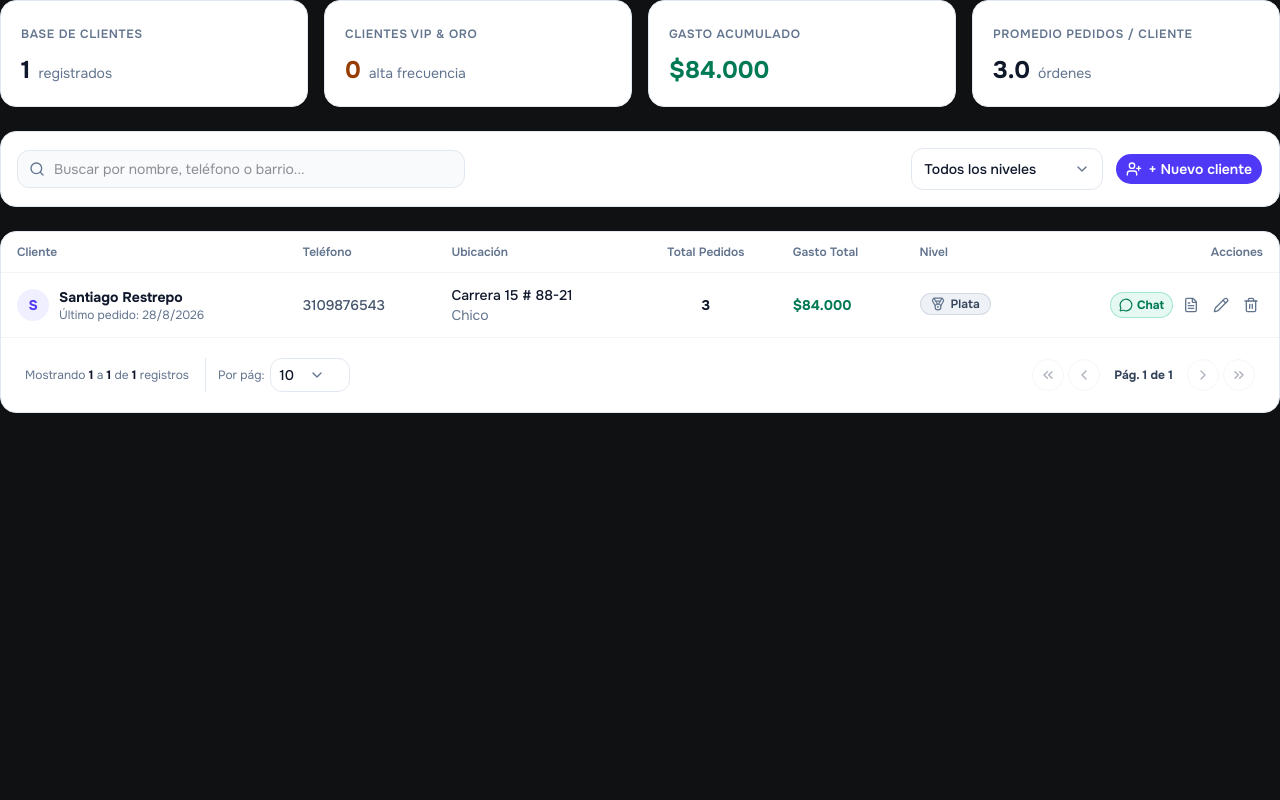
Test: CustomerCRM edit and delete › Customer creation (customers.manage) › opens create modal and requires name and phone fields with clean error states
The image size is (1280, 800).
Click the button "+ Nuevo cliente" at (1189, 169), box [1116, 153, 1263, 185]
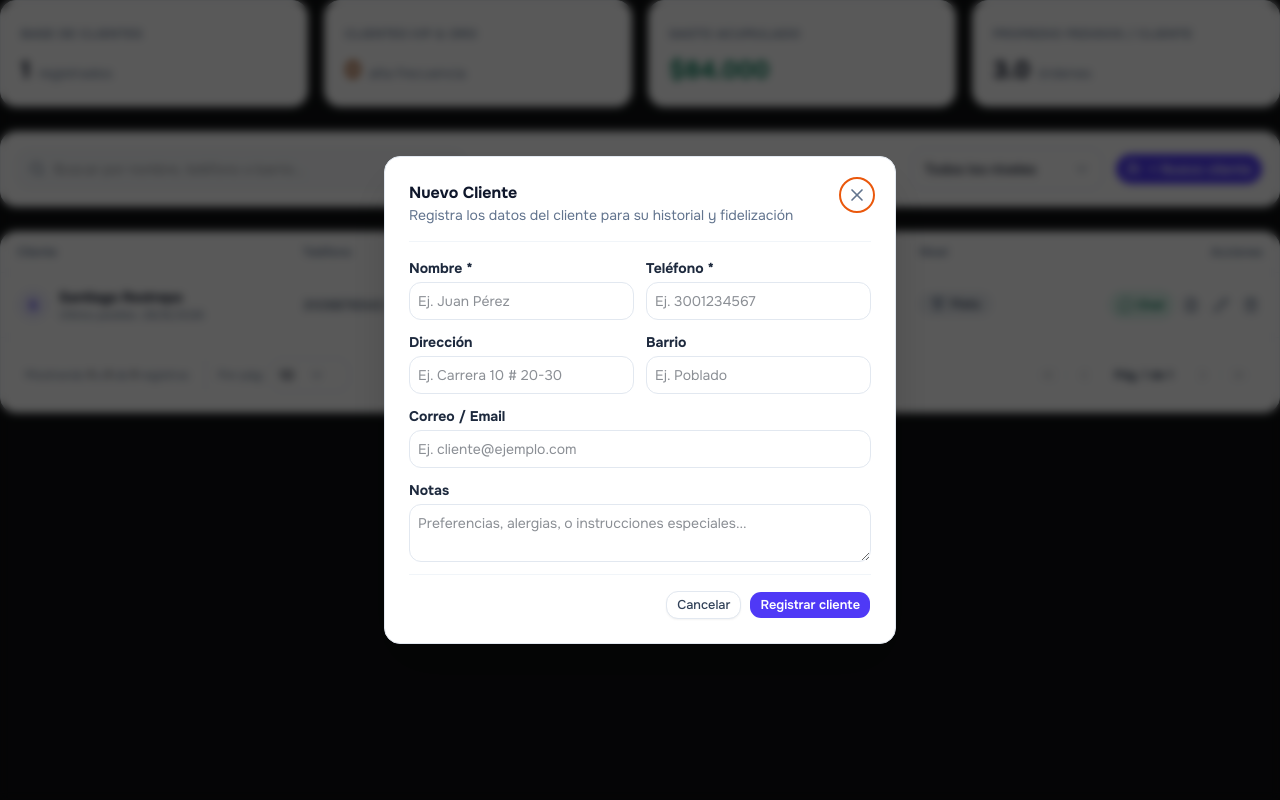
Expected: the heading "Nuevo Cliente" is shown, [409, 182, 517, 203]
# Attempt submit without filling required fields
Click the button "Registrar cliente" at (810, 605), box [749, 591, 871, 619]
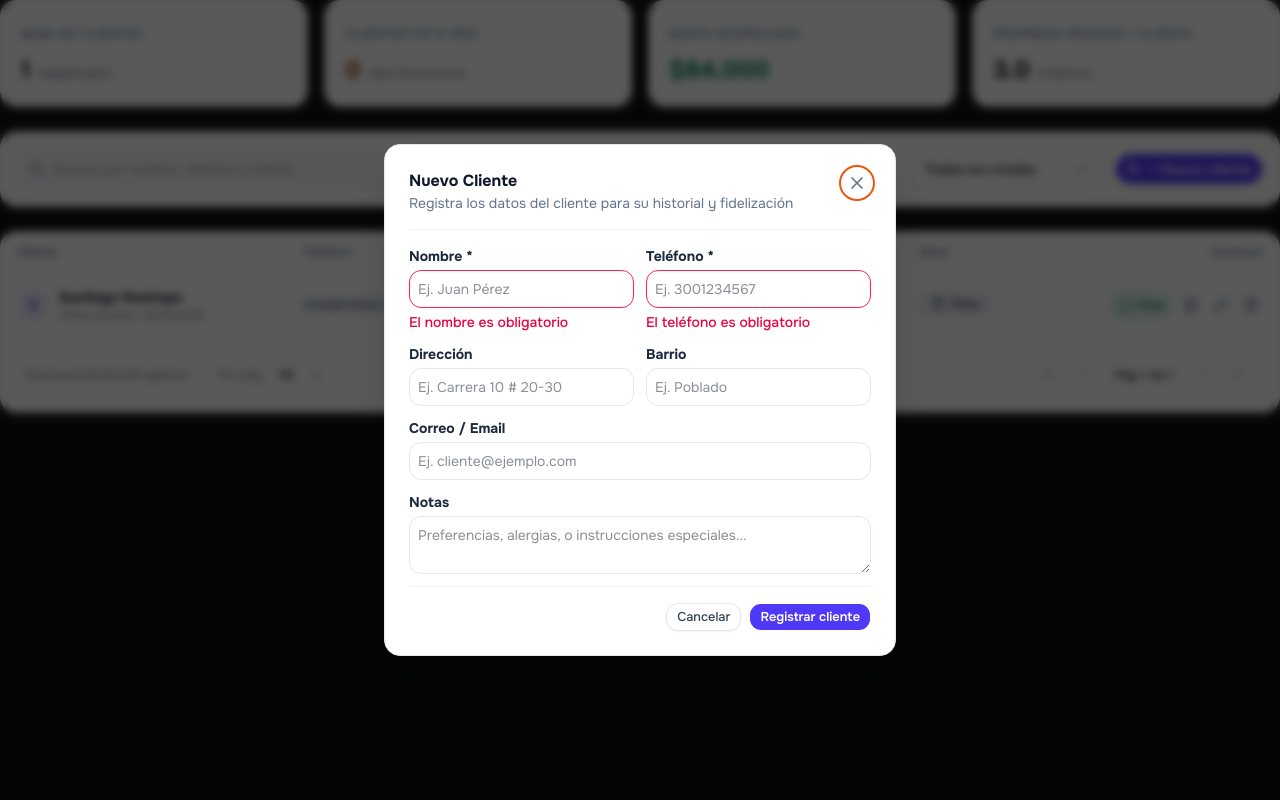
Expected: the text "El nombre es obligatorio" is shown, [409, 313, 568, 331]
Expected: the text "El teléfono es obligatorio" is shown, [646, 313, 810, 331]
